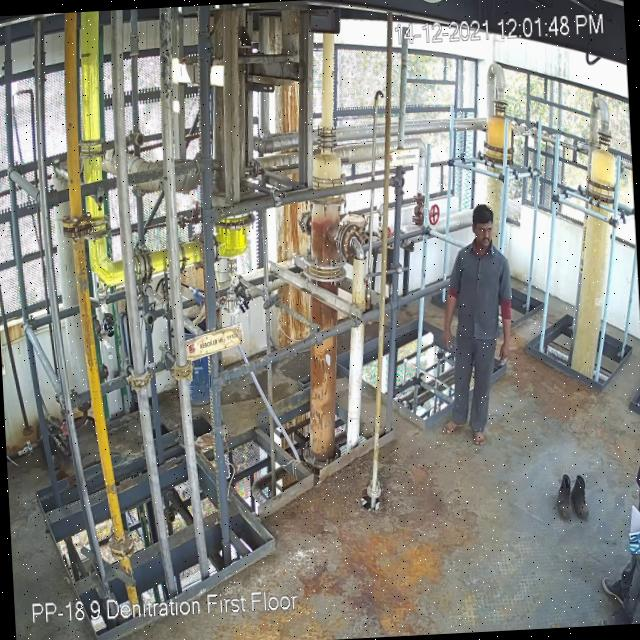boots: (554, 472, 578, 522), (572, 474, 592, 518)
no-boots: (440, 418, 466, 434), (469, 430, 486, 450)
